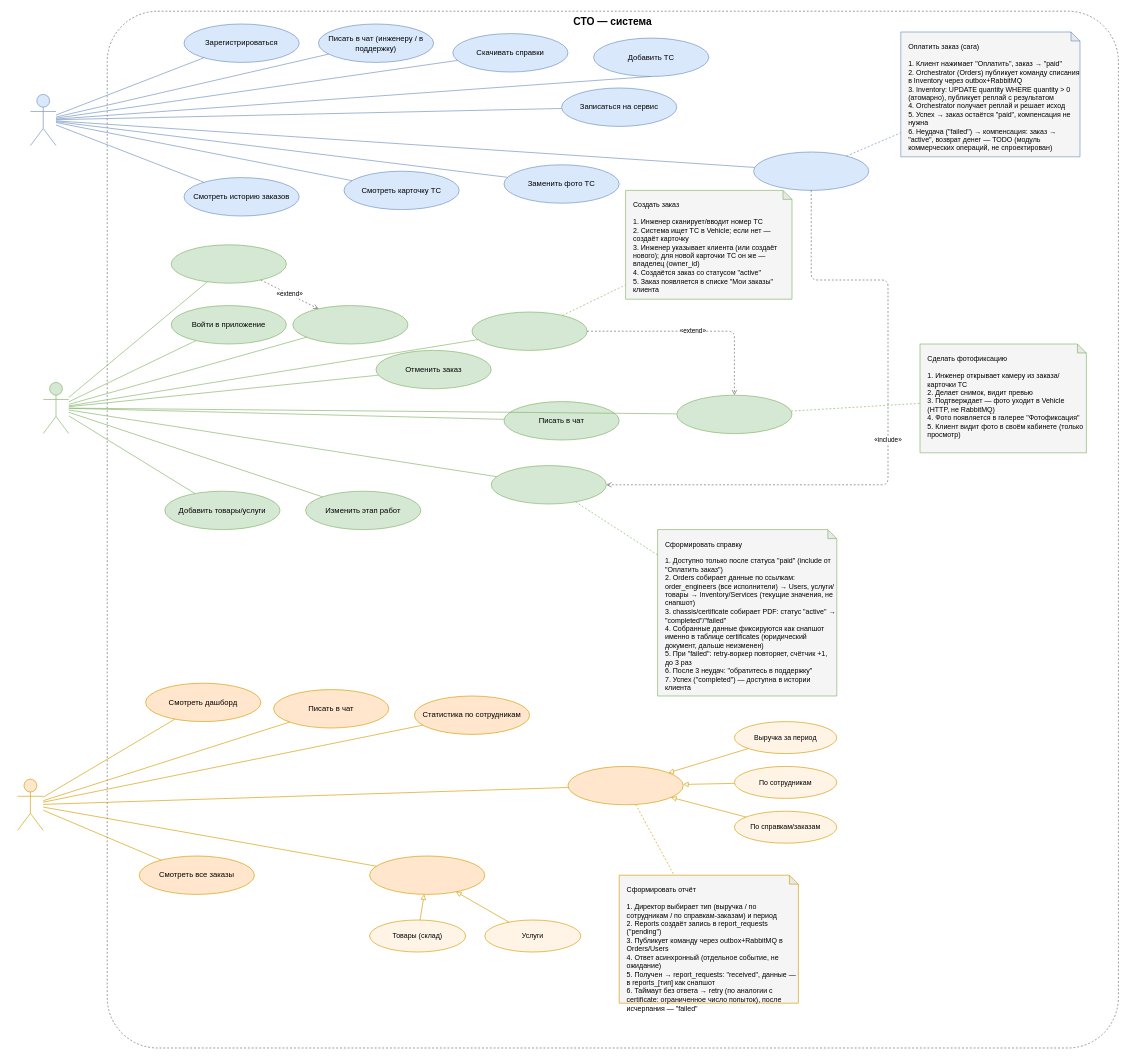
The diagram is 1130 pixels wide and 1059 high, and some of its shapes have lost their labels. The centre of each missing label's shape, as x and y in pixels:
Взять заявку в работу: (228,263)
Директор: (30,804)
Инженер: (56,408)
Клиент: (43,120)
Оплатить заказ: (811,170)
Сделать фотофиксацию: (734,414)
Смотреть список заявок: (350,324)
Создать заказ: (529,330)
Сформировать отчёт: (625,785)
Сформировать справку: (548,484)
Управлять каталогом: (427,874)
